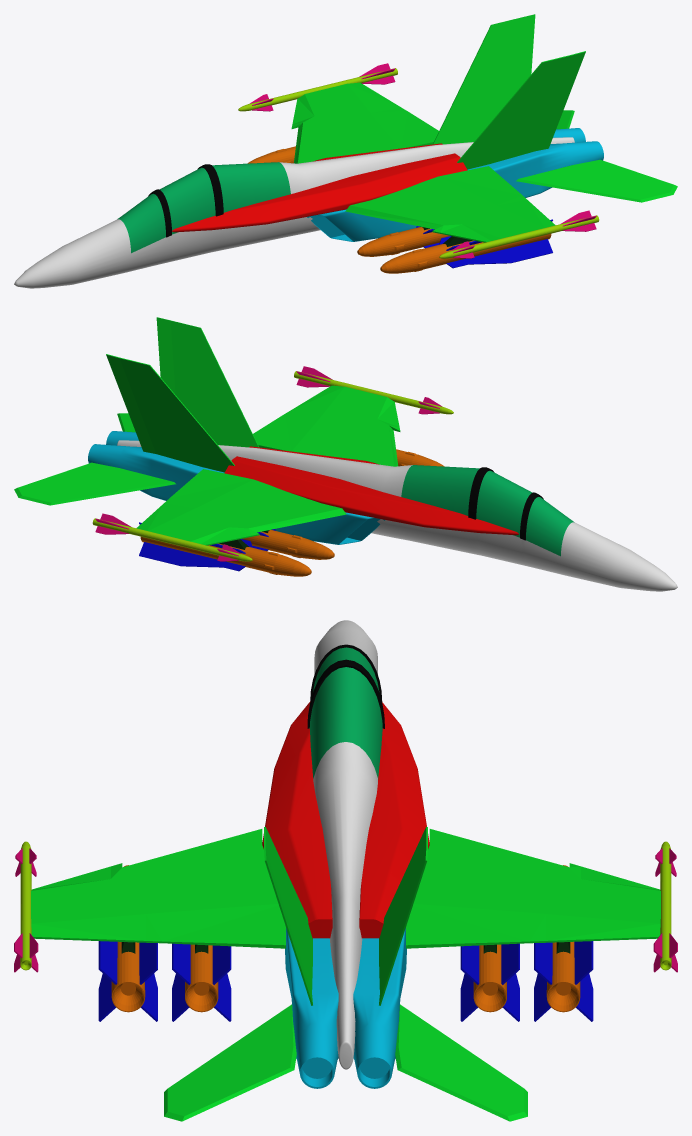
File: fighter_jet.fbx
The picture shows the model from 3 angles, top to bottom: view 1: azimuth 30°, elevation 25°; view 2: azimuth 150°, elevation 25°; view 3: azimuth 270°, elevation 25°; orthographic projection. The views are drawn at different scales.
Visible parts, largest first — view 1: Body; view 2: Body; view 3: Body.
Boxes of the visible parts, x1,y1,x2,y2 form: Body: [14, 14, 677, 288]; Body: [14, 317, 677, 591]; Body: [14, 620, 677, 1121].
Bounding box in the file's own units: 1016 × 230 × 600.
